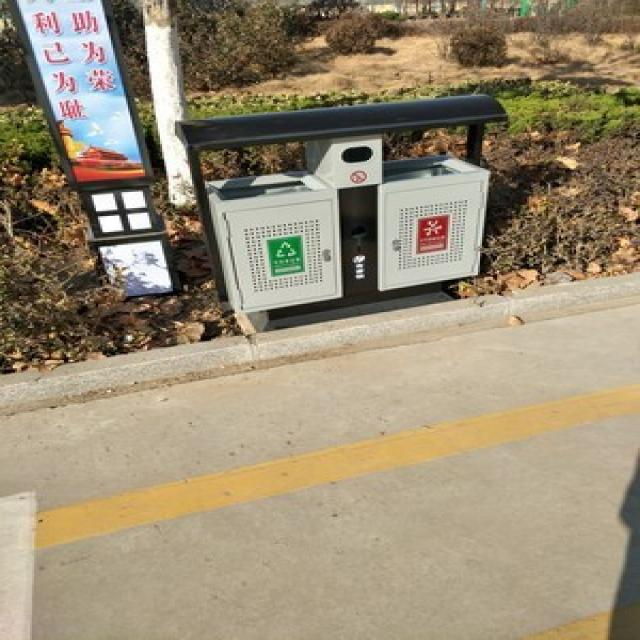ash bin: (171, 91, 504, 331)
